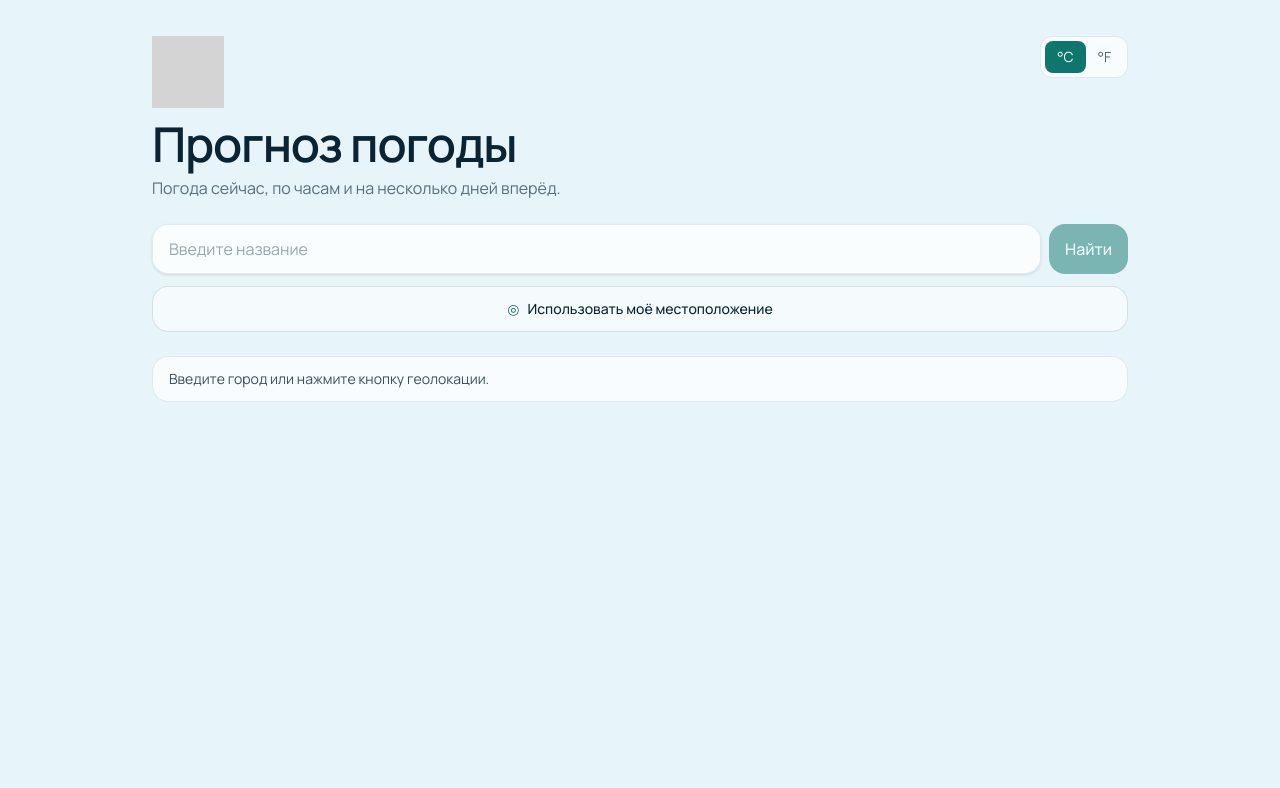
Test: WeatherApp scenarios › searches a city and shows current weather
Type "Moscow" into the search field named "Поиск города" at [596, 249], box [152, 224, 1041, 274]
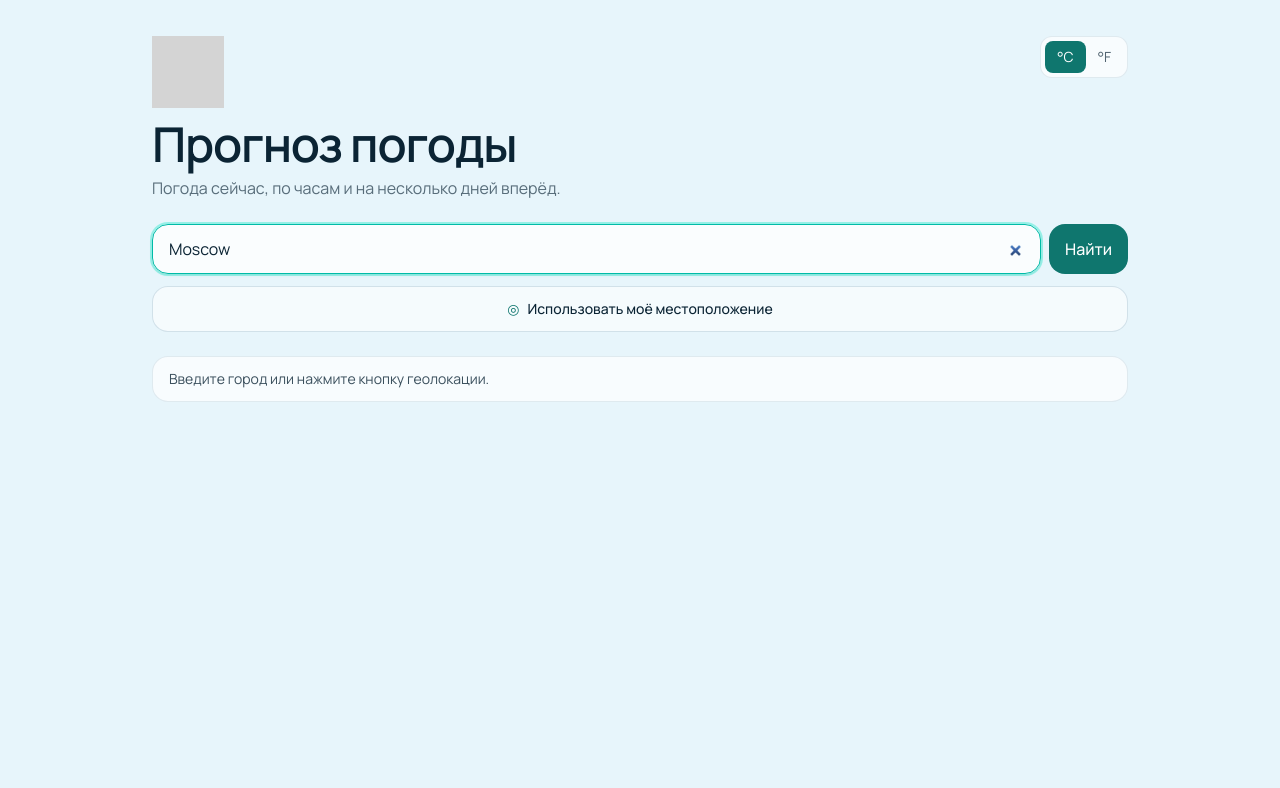
Click the button "Найти" at [1088, 249], box [1049, 224, 1128, 274]
(page scrolled)
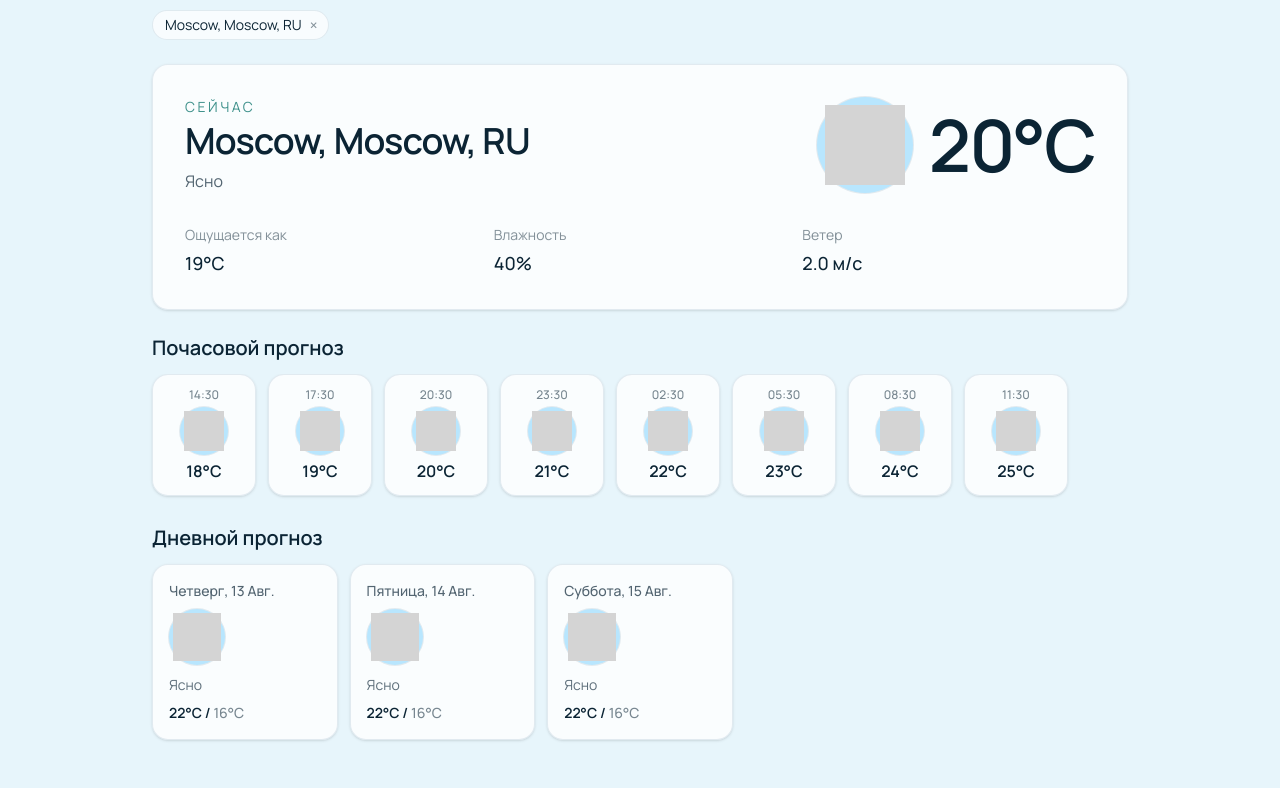
Result: the heading "Moscow, Moscow, RU" is shown at [185, 121, 530, 161]
Result: the 1st text "20°C" is shown at [929, 109, 1095, 181]
Result: the heading "Почасовой прогноз" is shown at [152, 334, 344, 361]
